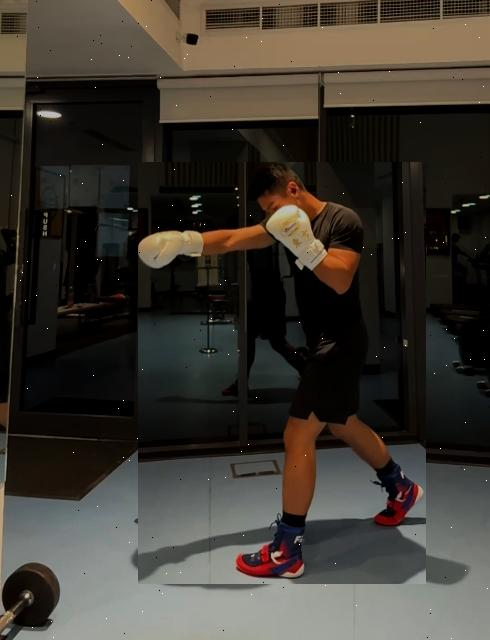punch: (138, 162, 426, 584)
